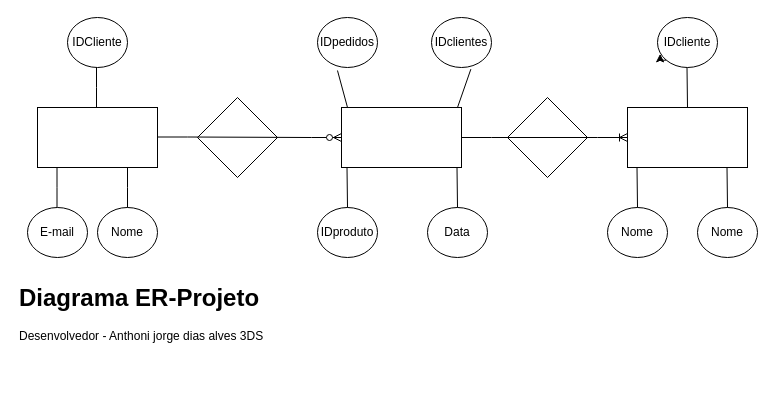
The diagram is 775 pixels wide and 418 high, and some of its shapes have lost their labels. Each missing label, with the centre of its shape:
Clientes: the point at 97,137
Pedidos: the point at 401,137
Produtos: the point at 687,137
